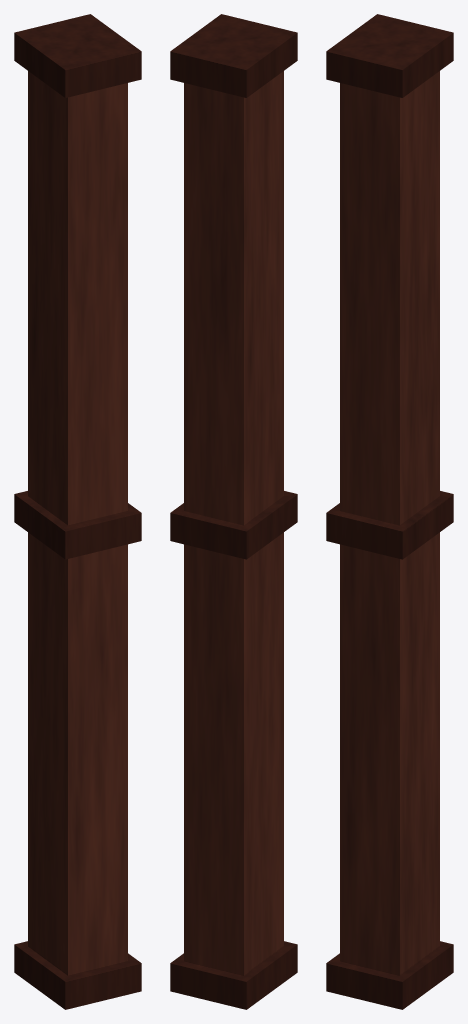
Rendered from uniColumn.glb.
The picture shows the model from 3 angles, left to right: view 1: azimuth 30°, elevation 25°; view 2: azimuth 150°, elevation 25°; view 3: azimuth 330°, elevation 25°; orthographic projection.
Visible parts, largest first — view 1: uniColumn_V5_TEMP; view 2: uniColumn_V5_TEMP; view 3: uniColumn_V5_TEMP.
Boxes of the visible parts, <box> form: uniColumn_V5_TEMP: <box>14,14,141,1009</box>; uniColumn_V5_TEMP: <box>170,14,297,1009</box>; uniColumn_V5_TEMP: <box>326,14,453,1009</box>.
Size of the model in its own units: 2.36 by 27.8 by 2.75.
Materials: 1 (1 with a texture image).
